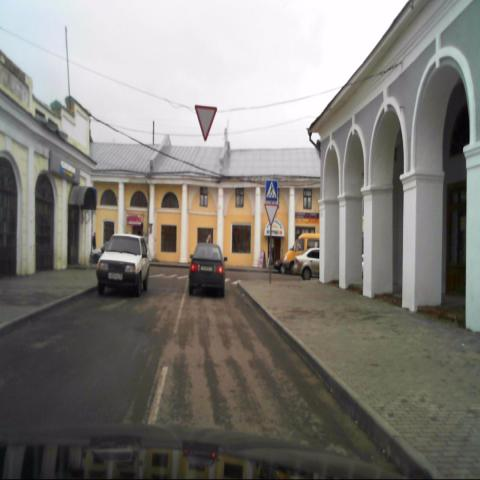2_4: (194, 103, 217, 144), (264, 204, 278, 226)
5_19_1: (264, 180, 278, 201)
